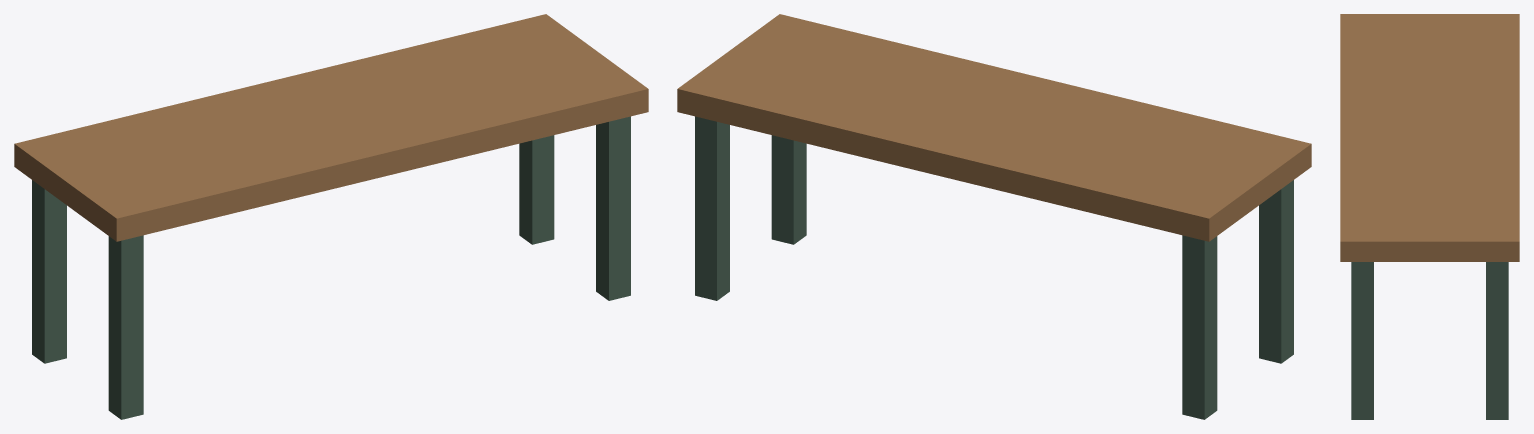
3 views of the same model, side by side, from view 1: azimuth 30°, elevation 25°; view 2: azimuth 150°, elevation 25°; view 3: azimuth 270°, elevation 25° (orthographic). The views are drawn at different scales.
Visible parts, largest first — view 1: top, leg-0-1, leg-1-1, leg-0-0, leg-1-0; view 2: top, leg-0-0, leg-1-0, leg-0-1, leg-1-1; view 3: top, leg-1-0, leg-1-1.
Part boxes in pixels (x1,y1,x2,y2): top: [14, 14, 648, 241]; leg-0-1: [108, 235, 143, 419]; leg-1-1: [596, 116, 630, 300]; leg-0-0: [32, 180, 66, 363]; leg-1-0: [519, 135, 554, 244]; top: [677, 14, 1311, 241]; leg-0-0: [1182, 235, 1217, 419]; leg-1-0: [695, 116, 729, 300]; leg-0-1: [1259, 180, 1293, 363]; leg-1-1: [771, 135, 806, 244]; top: [1340, 14, 1519, 261]; leg-1-0: [1486, 262, 1508, 419]; leg-1-1: [1351, 262, 1373, 419].
Bounding box in the file's own units: 1.2 × 0.45 × 0.4.
